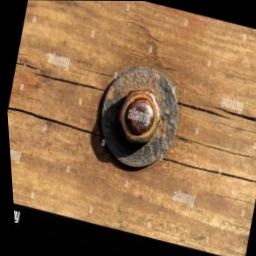Corroded-Nut-and-Bolt: (117, 91, 156, 143)
